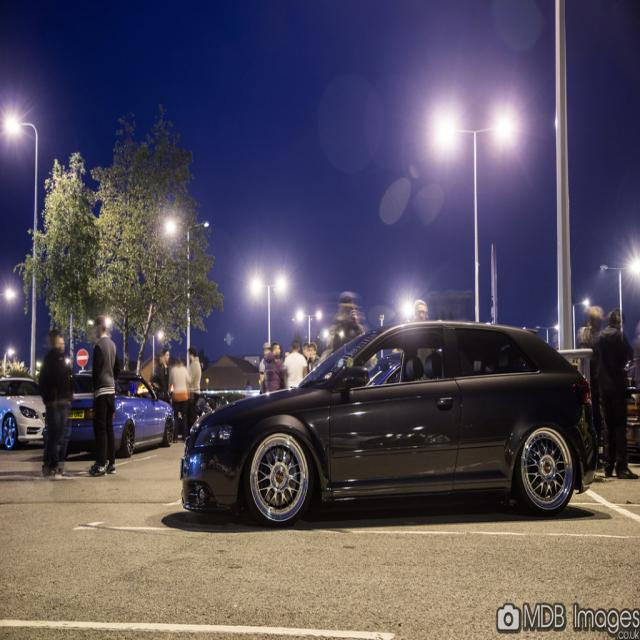car: (172, 317, 607, 531)
